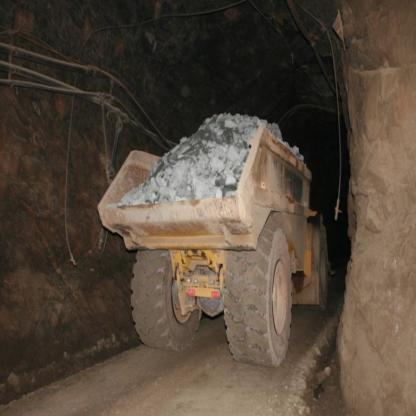dump_truck: (112, 98, 346, 373)
